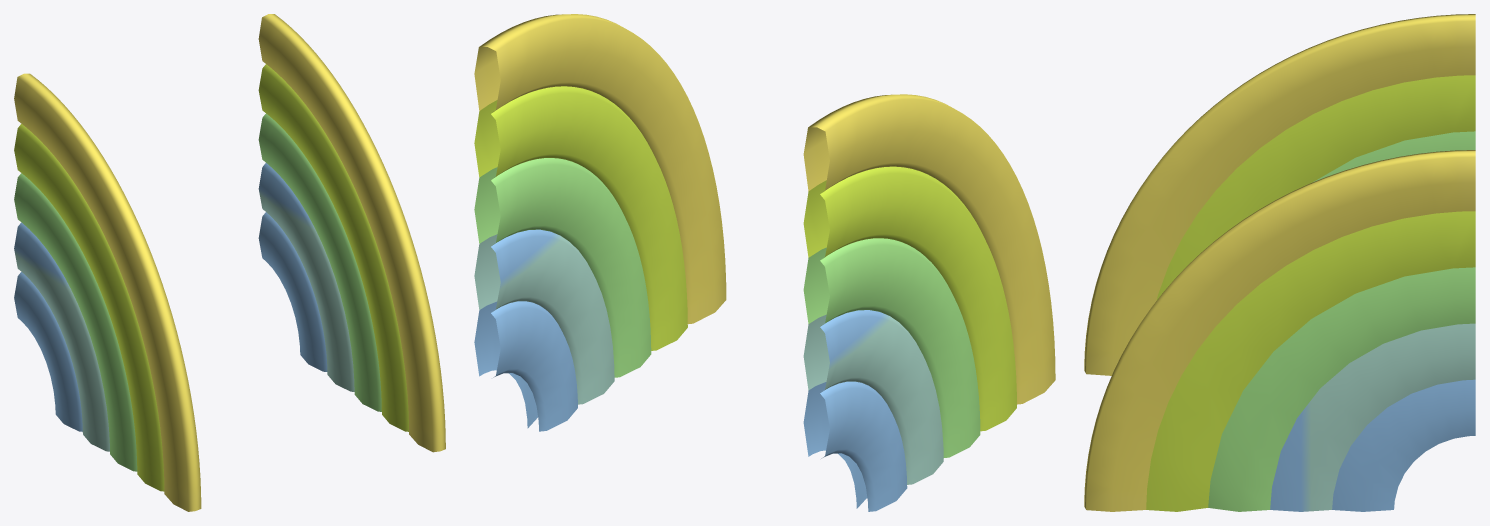
The model's file is ENV_Circle_Shapes.fbx.
3 views of the same model, side by side, from view 1: azimuth 30°, elevation 25°; view 2: azimuth 150°, elevation 25°; view 3: azimuth 270°, elevation 25° (orthographic). The views are drawn at different scales.
Parts seen in each view (by area): view 1: ENV_Circle_Shapes; view 2: ENV_Circle_Shapes; view 3: ENV_Circle_Shapes.
Boxes of the visible parts, left/top/right/bottom form: ENV_Circle_Shapes: left=14, top=14, right=445, bottom=511; ENV_Circle_Shapes: left=474, top=14, right=1055, bottom=511; ENV_Circle_Shapes: left=1084, top=14, right=1475, bottom=511.
Bounding box in the file's own units: 23.56 × 26.55 × 26.55.
Materials: 1 (1 with a texture image).
